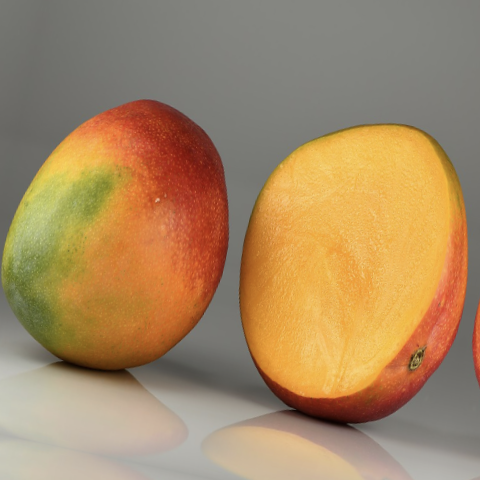mango: (201, 82, 480, 476), (0, 71, 261, 421)
